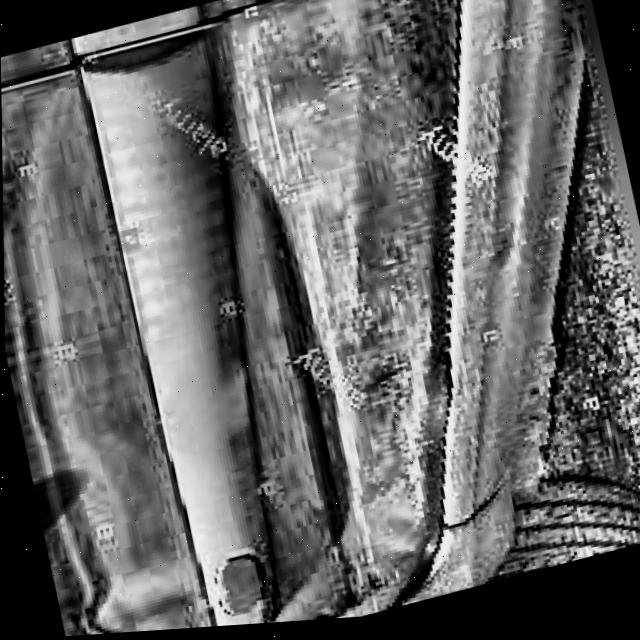door_dent: (187, 134, 418, 603)
